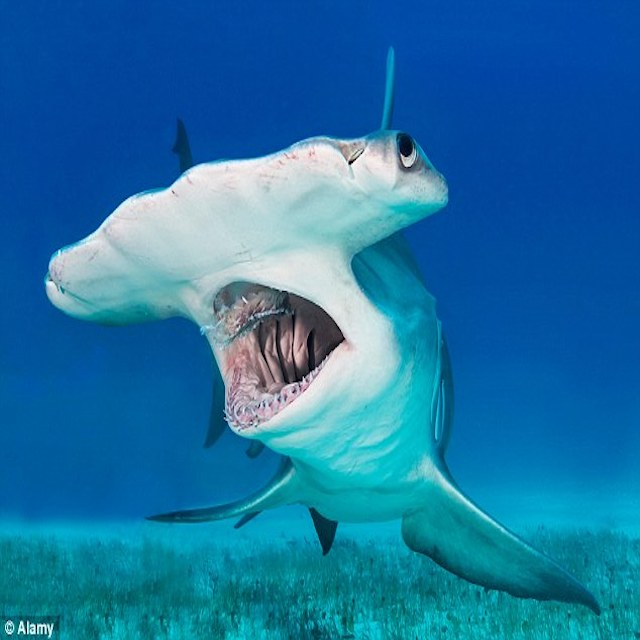hammerhead: (55, 92, 452, 431)
